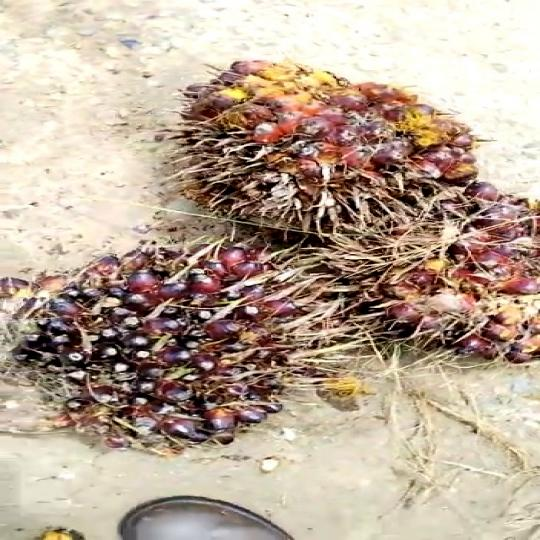masak: (0, 230, 364, 461), (182, 61, 495, 242), (312, 174, 540, 377)
